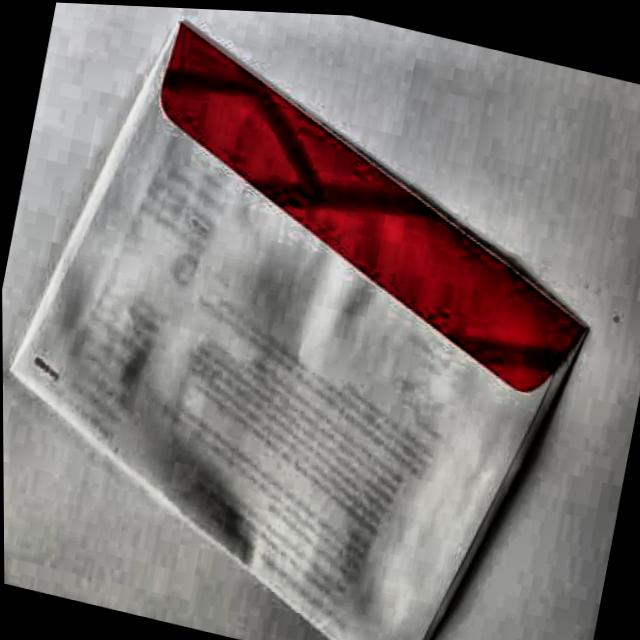Paper: (0, 0, 636, 640)
